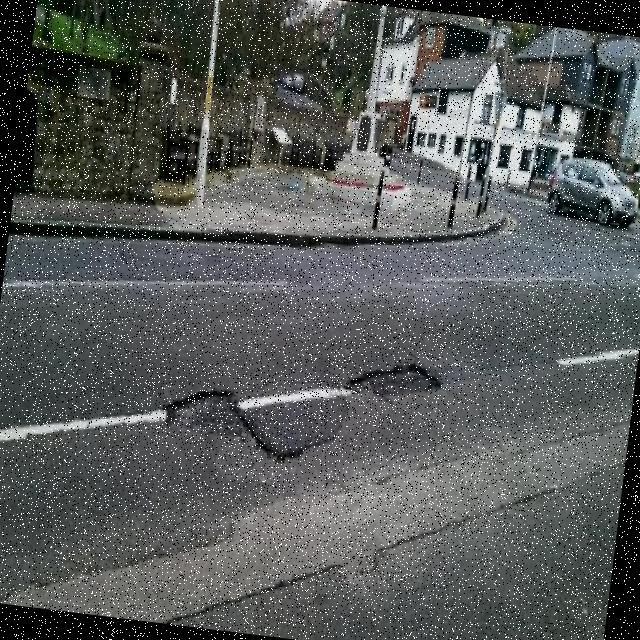Pothole: (164, 391, 301, 461), (343, 364, 441, 405)
